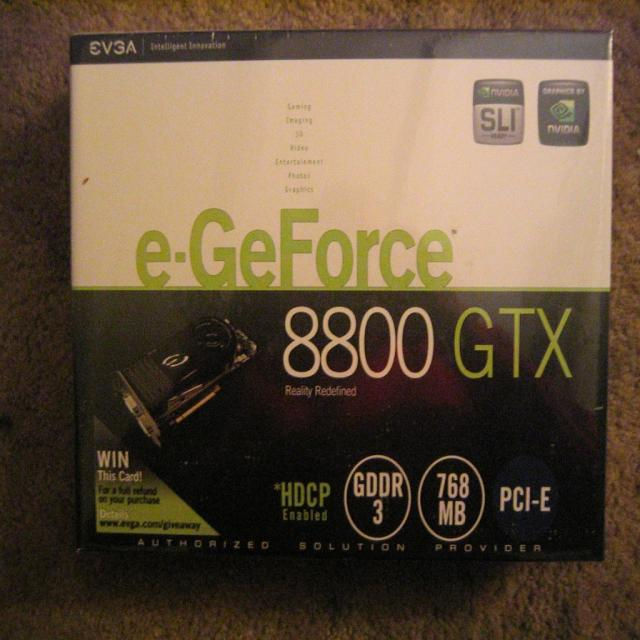nvidia: (549, 98, 577, 124)
